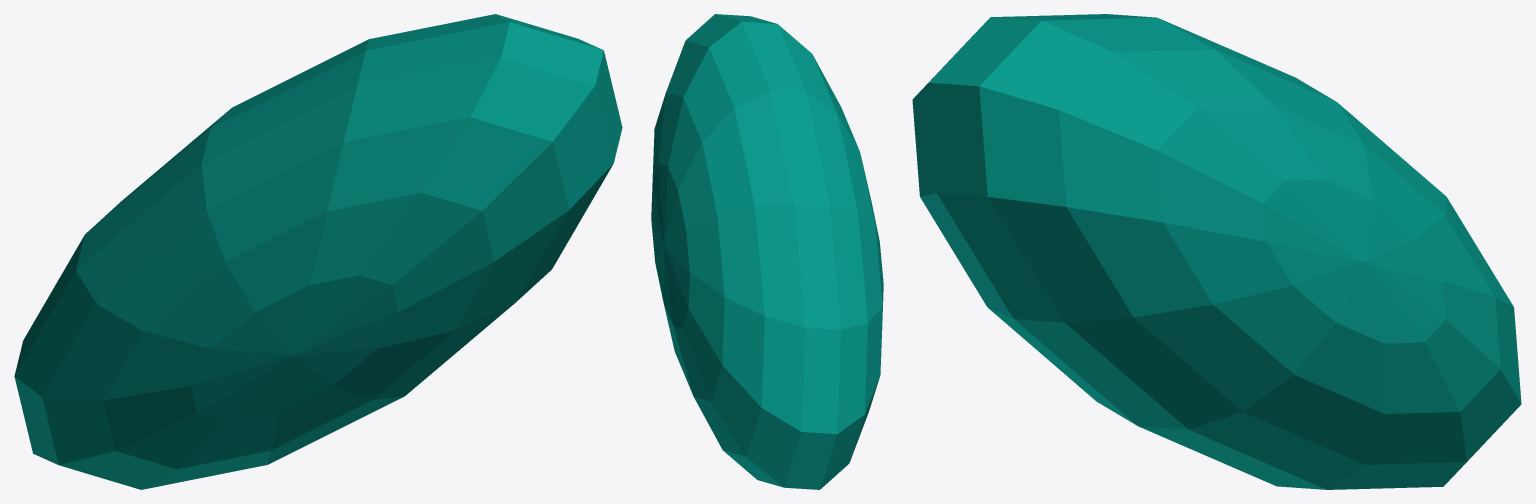
Rendered from n5_group81883502_lev5.glb.
3 views of the same model, side by side, from view 1: azimuth 30°, elevation 25°; view 2: azimuth 150°, elevation 25°; view 3: azimuth 270°, elevation 25° (orthographic). The views are drawn at different scales.
Parts seen in each view (by area): view 1: n5_group81883502_lev5; view 2: n5_group81883502_lev5; view 3: n5_group81883502_lev5.
Part boxes in pixels (box(x1,y1,x2,y2)): n5_group81883502_lev5: box(14, 14, 622, 489); n5_group81883502_lev5: box(651, 14, 883, 489); n5_group81883502_lev5: box(912, 14, 1521, 489).
Bounding box in the file's own units: 1.7 × 1.99 × 1.86.
